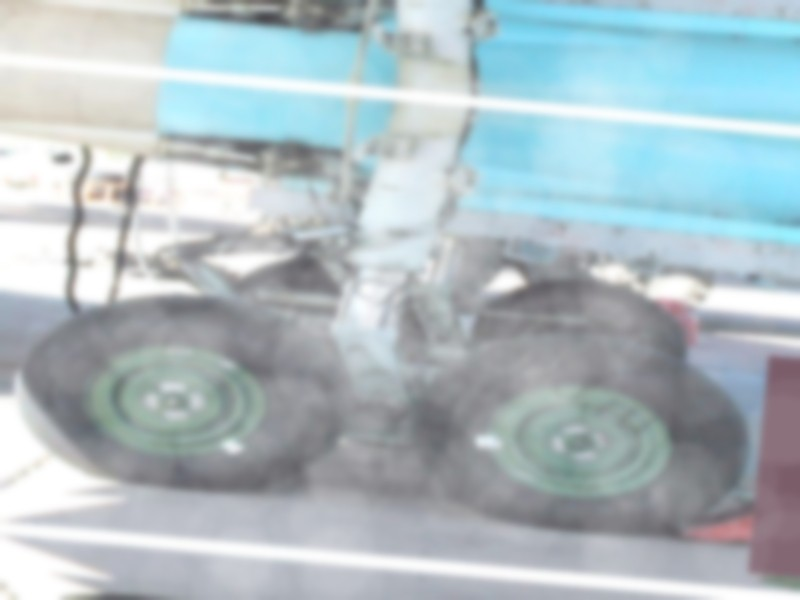chock: (674, 456, 800, 564)
wheel: (0, 278, 371, 506), (402, 318, 766, 549), (469, 270, 697, 363), (221, 248, 355, 319)
